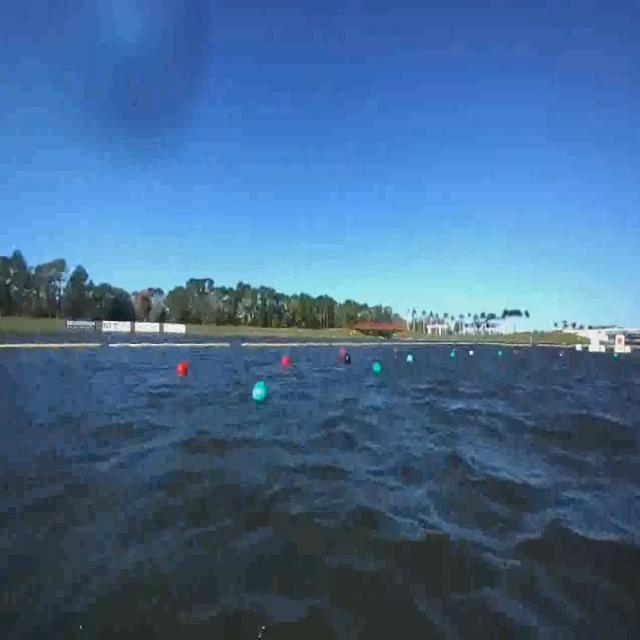green-buoy: (255, 379, 270, 403), (375, 361, 382, 374), (347, 353, 352, 364)
red-buoy: (180, 361, 192, 377), (282, 356, 290, 369)
